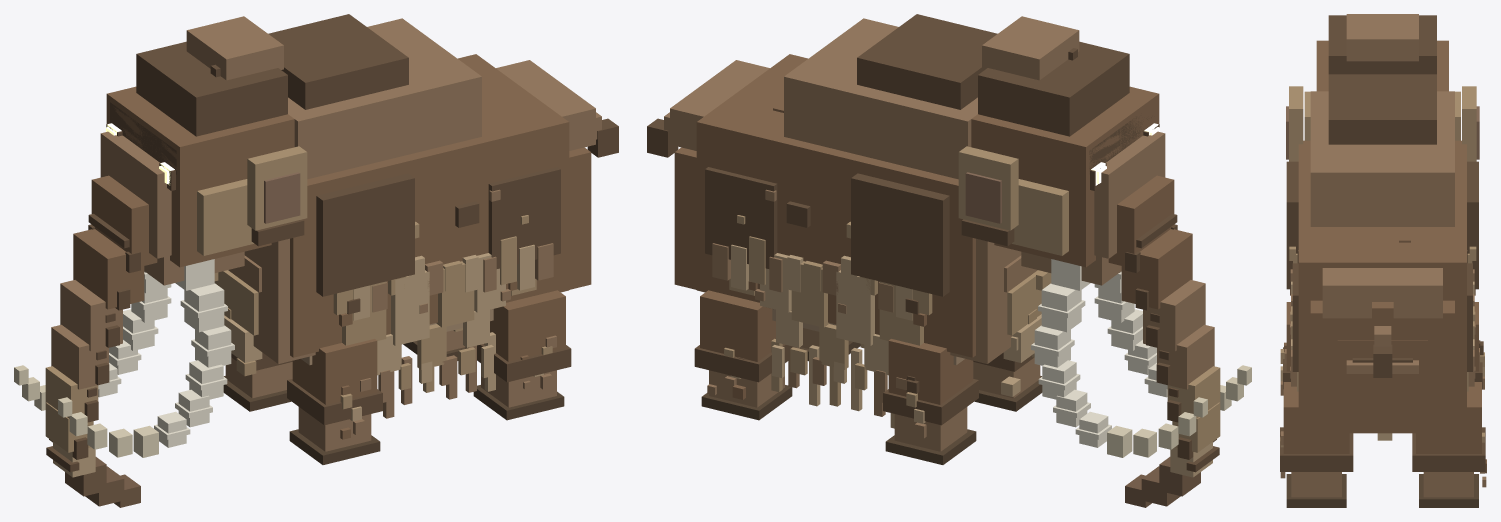
File: Mammoth_Voxel.glb
3 renders of one model, left to right at view 1: azimuth 30°, elevation 25°; view 2: azimuth 150°, elevation 25°; view 3: azimuth 270°, elevation 25°, orthographic. The views are drawn at different scales.
Visible parts, largest first — view 1: Torso_Main, Torso_Hump, Head_Main, Shoulder_R, Head_Top, Torso_Hump_Peak, Hip_R, Head_Snout, Head_Crown, Leg_BR_Upper, Torso_Chest, Leg_FR_Upper (+45 smaller); view 2: Torso_Main, Torso_Hump, Head_Main, Shoulder_L, Head_Top, Torso_Hump_Peak, Hip_L, Head_Snout, Head_Crown, Leg_BL_Upper, Torso_Chest, Leg_FL_Upper (+45 smaller); view 3: Torso_Rear, Torso_Hump, Torso_Main, Torso_Hump_Peak, Torso_Rear_Step, Head_Crown, Head_Top, Leg_BR_Upper, Leg_BL_Upper, Leg_BR_Knee, Leg_BL_Knee, Shoulder_R (+19 smaller).
Part boxes in pixels (bbox=[...]): Torso_Main: bbox=[290, 54, 569, 357]; Torso_Hump: bbox=[288, 18, 481, 179]; Head_Main: bbox=[106, 86, 294, 267]; Shoulder_R: bbox=[316, 173, 414, 296]; Head_Top: bbox=[136, 41, 287, 136]; Torso_Hump_Peak: bbox=[268, 14, 408, 109]; Hip_R: bbox=[488, 167, 560, 268]; Head_Snout: bbox=[100, 131, 171, 258]; Head_Crown: bbox=[186, 16, 283, 80]; Leg_BR_Upper: bbox=[484, 290, 565, 361]; Torso_Chest: bbox=[230, 238, 315, 363]; Leg_FR_Upper: bbox=[292, 339, 377, 404]; Torso_Main: bbox=[696, 54, 975, 357]; Torso_Hump: bbox=[784, 18, 977, 179]; Head_Main: bbox=[971, 86, 1159, 267]; Shoulder_L: bbox=[851, 173, 949, 296]; Head_Top: bbox=[978, 41, 1129, 136]; Torso_Hump_Peak: bbox=[857, 14, 997, 109]; Hip_L: bbox=[705, 167, 777, 268]; Head_Snout: bbox=[1094, 131, 1165, 258]; Head_Crown: bbox=[982, 16, 1079, 80]; Leg_BL_Upper: bbox=[700, 290, 775, 361]; Torso_Chest: bbox=[950, 238, 1035, 363]; Leg_FL_Upper: bbox=[888, 339, 973, 404]; Torso_Rear: bbox=[1310, 300, 1454, 433]; Torso_Hump: bbox=[1310, 91, 1454, 226]; Torso_Main: bbox=[1298, 140, 1466, 414]; Torso_Hump_Peak: bbox=[1328, 74, 1436, 144]; Torso_Rear_Step: bbox=[1322, 268, 1442, 318]; Head_Crown: bbox=[1346, 14, 1418, 61]; Head_Top: bbox=[1328, 15, 1436, 74]; Leg_BR_Upper: bbox=[1283, 382, 1349, 453]; Leg_BL_Upper: bbox=[1416, 382, 1481, 453]; Leg_BR_Knee: bbox=[1280, 427, 1353, 471]; Leg_BL_Knee: bbox=[1412, 427, 1485, 471]; Shoulder_R: bbox=[1286, 161, 1298, 289].
Bounding box in the file's own units: 5 × 3.61 × 1.72.
